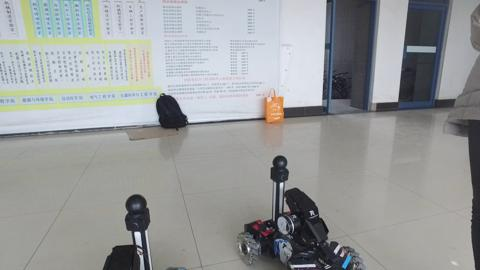bag: (144, 89, 191, 132), (256, 85, 293, 131)
chariot: (229, 146, 369, 270)
